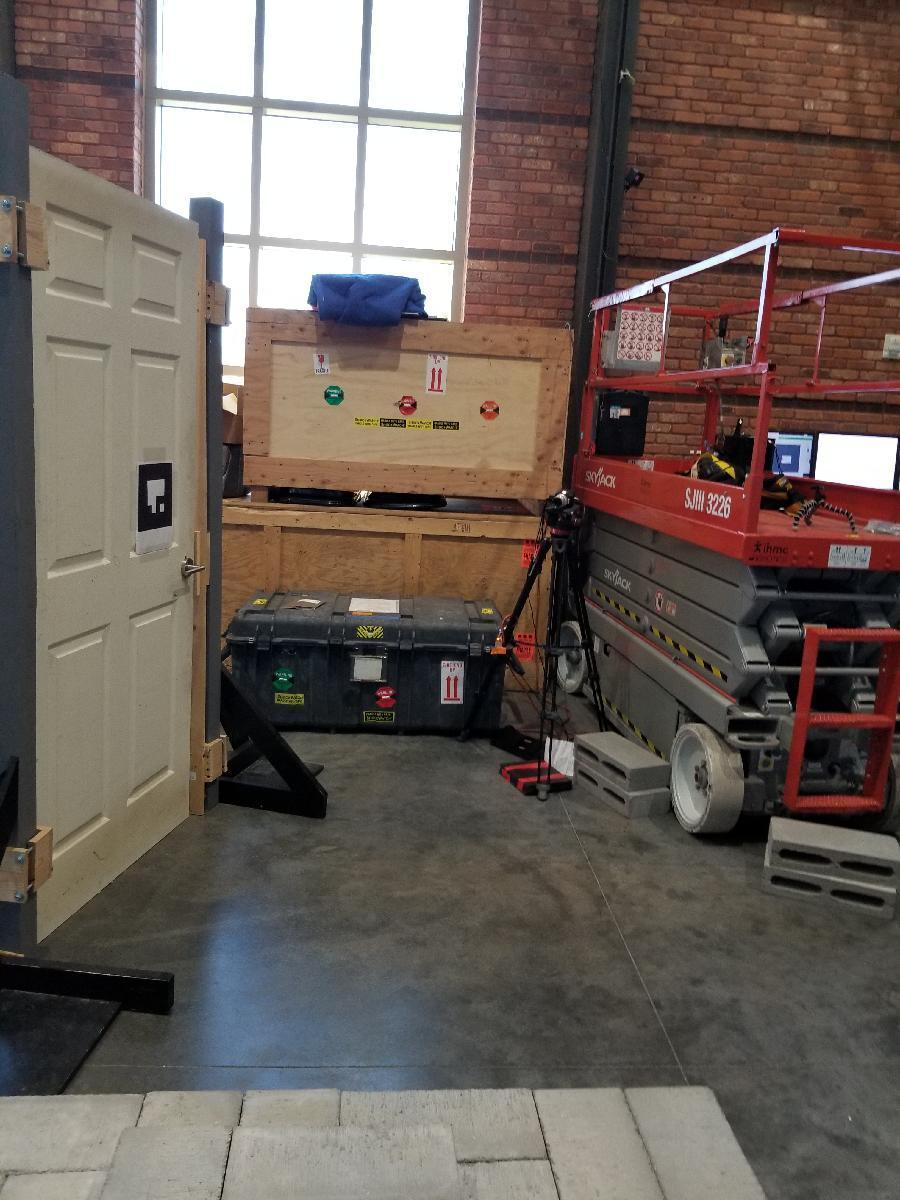door: (26, 145, 208, 936)
handle: (176, 551, 206, 584)
